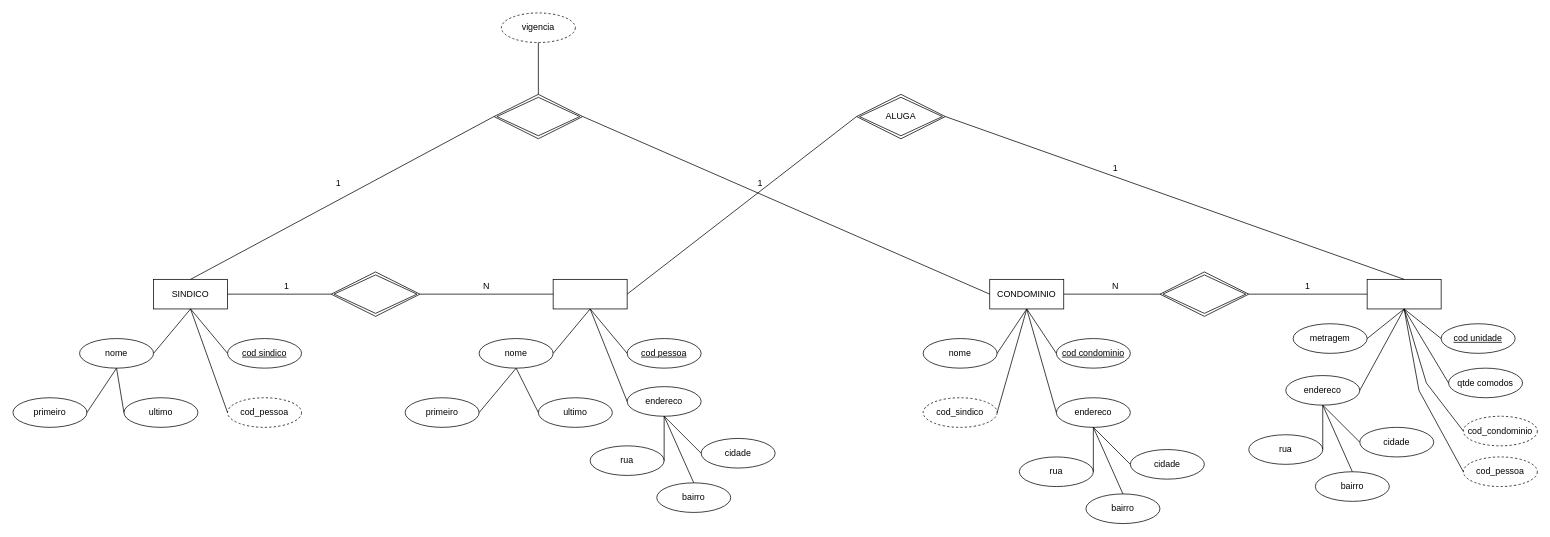
Some shapes in this 1550 by 537 pixel diagram are drawn without their labels. Each missing label, with the centre of its shape:
ADMINISTRA: pixel 538 116
CUIDA: pixel 375 293
PERTENCE: pixel 1204 293
PESSOA: pixel 589 294
UNIDADE: pixel 1403 294
